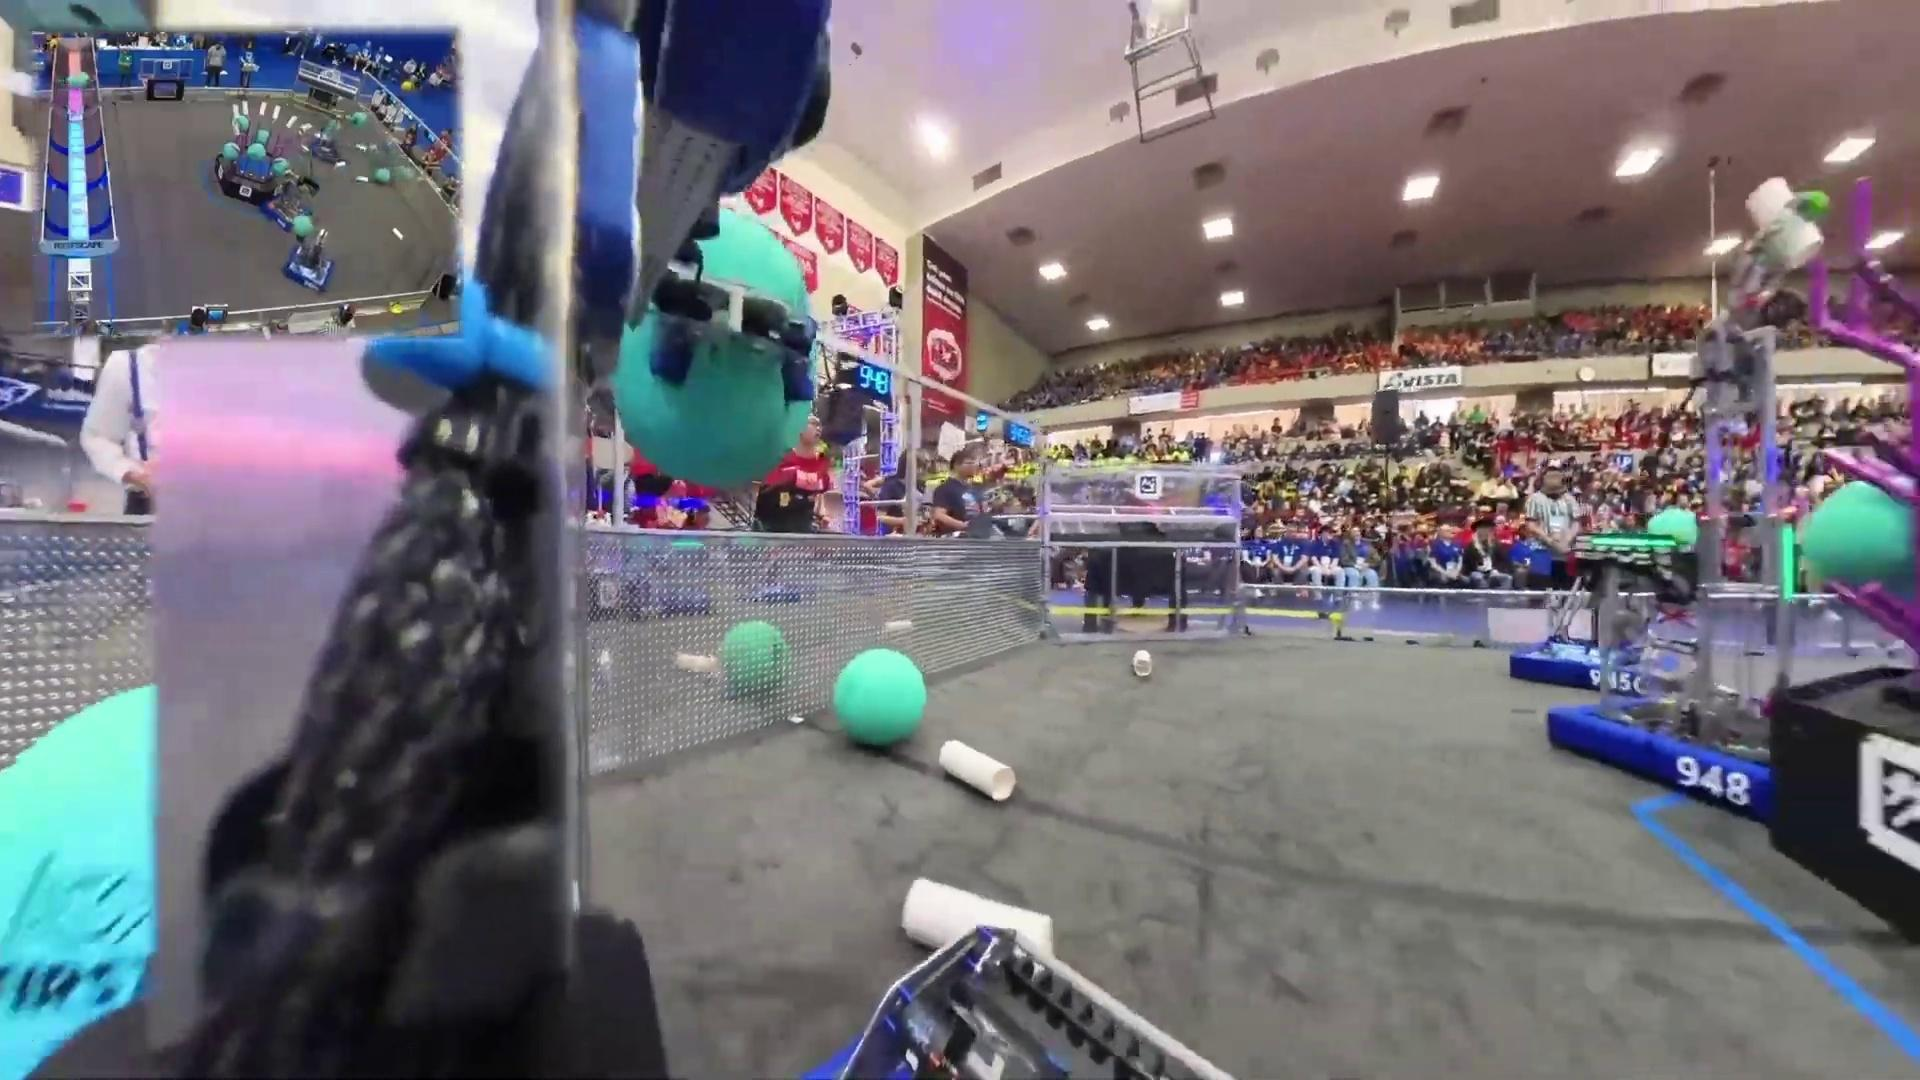robot: (1545, 260, 1788, 822), (1507, 542, 1685, 691), (285, 200, 332, 290), (264, 171, 314, 232), (305, 121, 345, 170)
